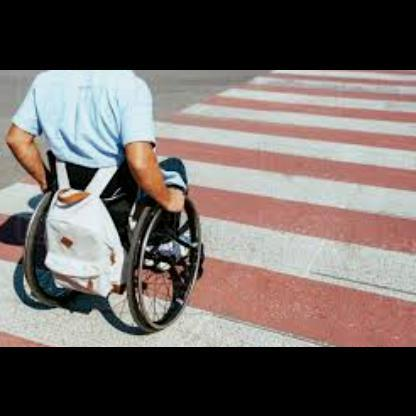wheelchair: (6, 71, 206, 334)
